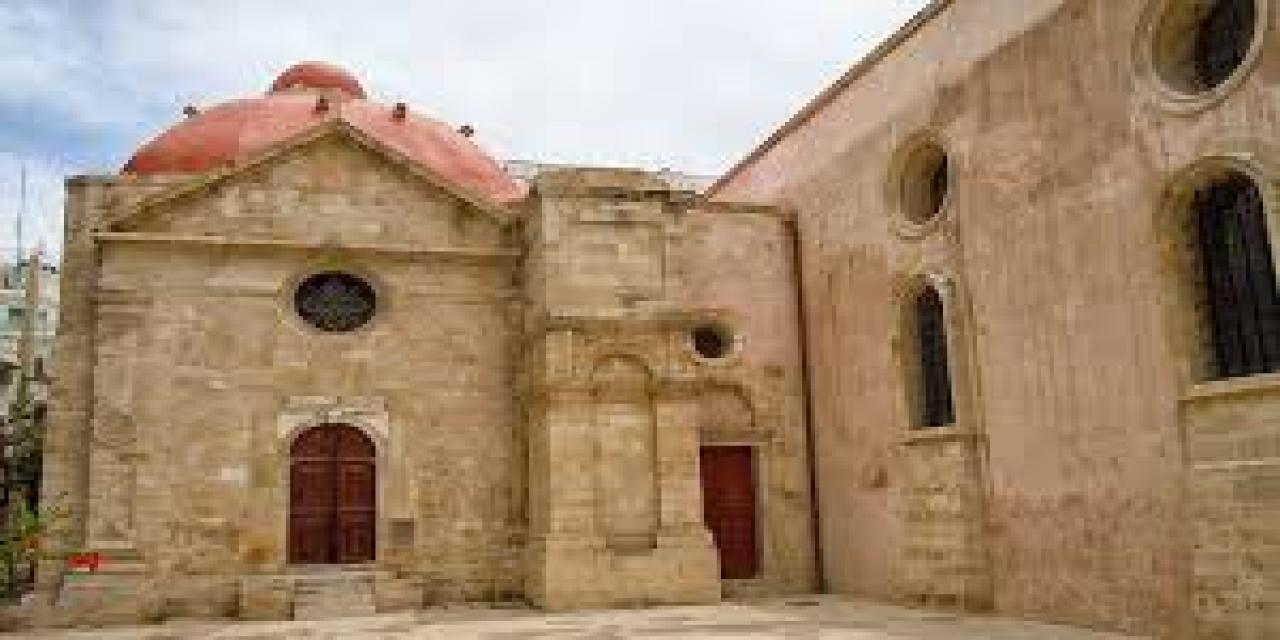Agia Aikaterini: (40, 1, 1280, 638)
